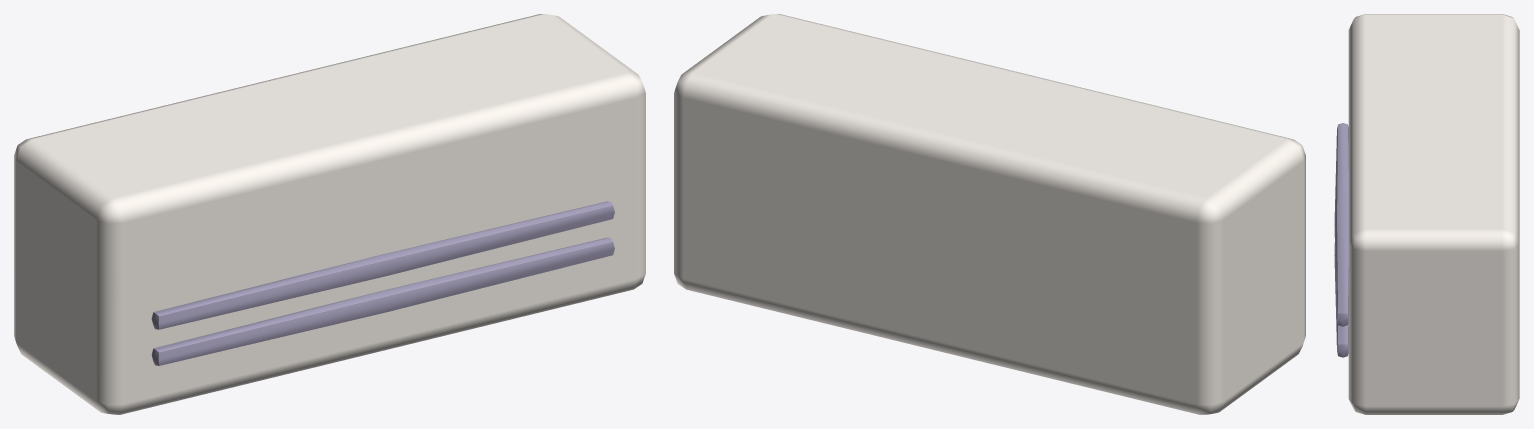
File: air-conditioner.glb
The picture shows the model from 3 angles, left to right: view 1: azimuth 30°, elevation 25°; view 2: azimuth 150°, elevation 25°; view 3: azimuth 270°, elevation 25°; orthographic projection. The views are drawn at different scales.
Visible parts, largest first — view 1: part (×3); view 2: part; view 3: part (×3).
Boxes of the visible parts, x1,y1,x2,y2 form: part (×3): (14,14,645,414); part: (674,14,1305,414); part (×3): (1334,14,1519,414).
Bounding box in the file's own units: 0.95 × 0.36 × 0.325.
Materials: 1 (1 with a texture image).
